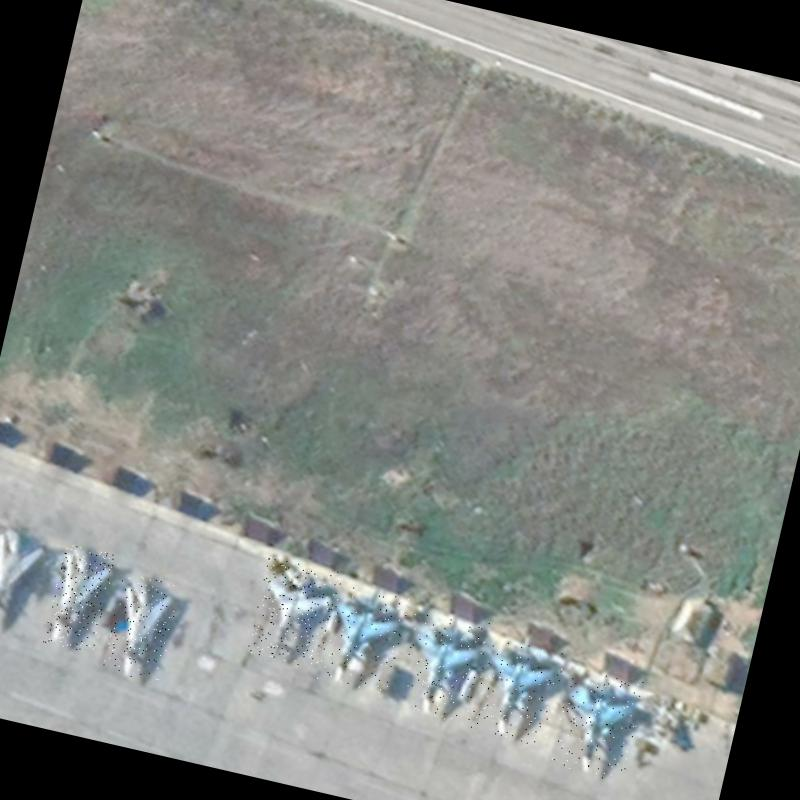A1: (246, 556, 341, 670)
A19: (392, 606, 493, 727), (548, 662, 646, 782), (468, 636, 566, 747), (316, 582, 410, 695)
A20: (100, 572, 181, 684), (42, 543, 117, 654), (0, 523, 50, 636)
